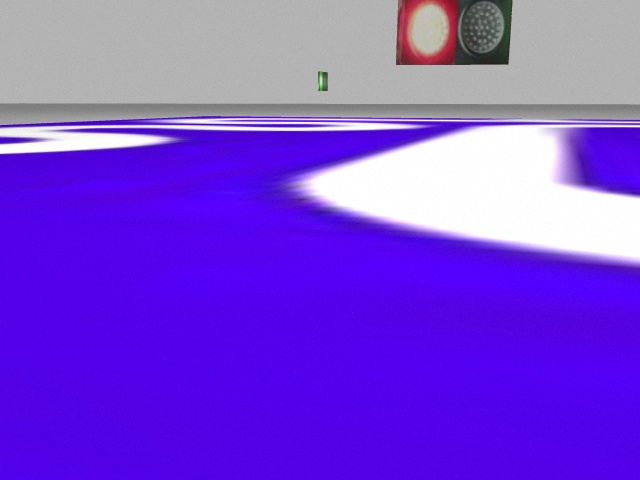red: (398, 2, 457, 67)
